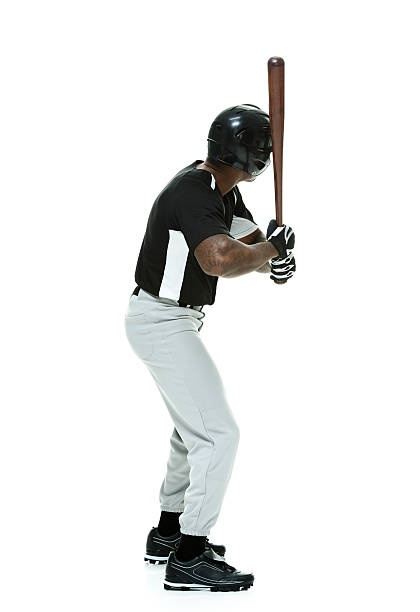bita: (255, 58, 303, 287)
